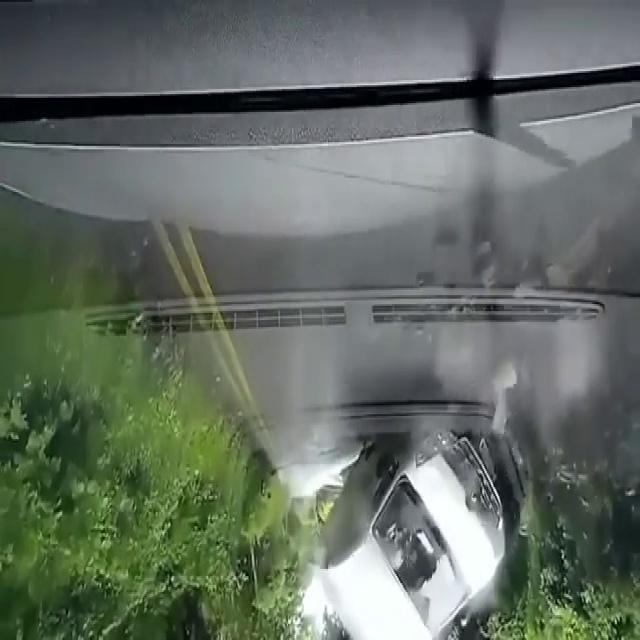severe: (304, 389, 537, 640)
